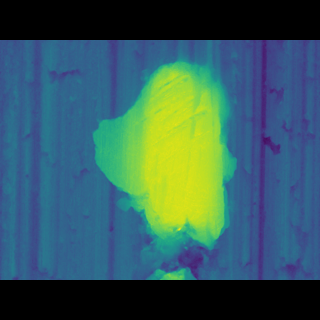Loch: (91, 83, 237, 226)
